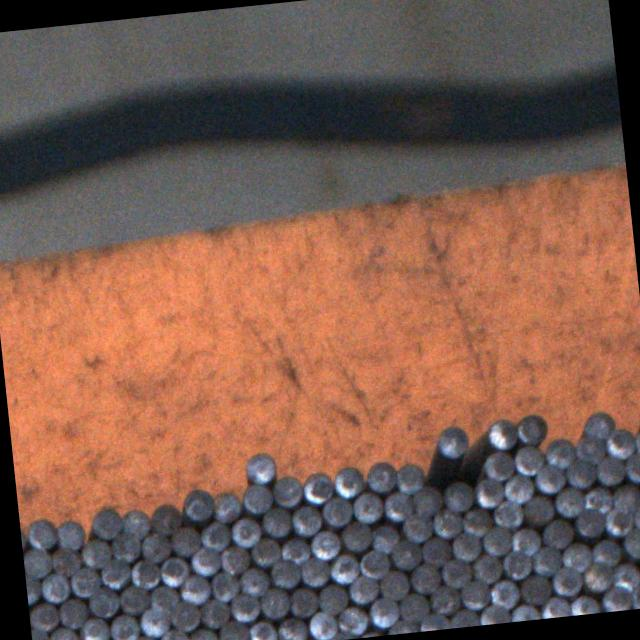tool: (602, 426, 638, 461), (540, 516, 576, 551), (334, 602, 372, 635), (180, 486, 214, 522), (435, 422, 469, 458), (117, 582, 153, 616), (88, 504, 122, 540), (601, 503, 635, 538), (460, 503, 494, 538), (289, 502, 324, 536), (147, 500, 182, 534), (243, 449, 277, 484), (364, 458, 398, 493), (485, 415, 519, 450), (56, 594, 90, 629), (351, 488, 384, 524), (542, 434, 576, 468), (286, 584, 320, 618), (408, 562, 442, 596), (560, 540, 594, 574), (268, 556, 302, 590), (522, 492, 556, 526), (198, 517, 232, 551), (228, 514, 262, 548), (258, 504, 292, 538), (440, 478, 474, 512), (300, 470, 334, 504), (128, 555, 162, 589), (24, 516, 58, 550), (325, 551, 360, 584), (337, 519, 372, 552), (139, 529, 172, 564), (564, 456, 598, 489), (518, 572, 552, 605), (550, 563, 584, 596), (331, 464, 364, 498), (512, 442, 545, 476), (376, 568, 411, 600), (500, 547, 532, 582), (529, 544, 564, 576), (580, 408, 616, 439), (271, 472, 302, 508), (119, 506, 152, 539), (580, 482, 614, 514), (368, 595, 400, 629), (428, 584, 462, 616), (146, 582, 180, 614), (356, 546, 390, 578), (158, 554, 192, 586), (278, 534, 312, 566), (368, 521, 402, 553), (240, 482, 274, 514), (516, 411, 548, 445), (138, 604, 172, 636), (55, 517, 87, 551), (388, 539, 423, 570), (236, 566, 272, 596), (590, 536, 623, 568), (608, 479, 640, 512), (398, 590, 431, 622), (197, 596, 230, 628), (470, 552, 503, 584), (189, 544, 222, 576), (308, 528, 341, 560), (394, 461, 426, 494), (98, 555, 130, 588), (501, 472, 535, 503), (68, 565, 102, 596), (489, 577, 521, 609), (228, 590, 260, 622), (440, 556, 472, 588), (178, 572, 210, 604), (207, 569, 239, 601), (450, 530, 482, 562), (492, 496, 524, 528), (168, 525, 200, 557), (321, 494, 353, 526), (472, 476, 504, 508), (210, 490, 242, 522), (483, 449, 515, 481), (28, 600, 60, 632), (88, 584, 120, 616), (50, 544, 82, 576), (108, 530, 140, 562), (572, 506, 606, 536), (532, 462, 566, 492), (581, 558, 612, 590), (573, 434, 604, 466), (298, 554, 329, 586), (420, 535, 452, 566), (481, 524, 512, 556), (401, 510, 433, 541), (553, 484, 584, 516), (382, 490, 414, 521), (411, 485, 443, 516), (40, 570, 71, 602), (318, 582, 351, 612), (609, 558, 640, 589), (307, 608, 337, 640), (459, 580, 491, 610), (348, 573, 380, 603), (220, 542, 250, 574), (249, 536, 281, 566), (432, 507, 464, 537), (22, 546, 52, 578), (168, 600, 198, 631), (80, 538, 111, 568), (106, 612, 139, 640), (276, 613, 310, 640), (594, 454, 624, 484), (258, 587, 288, 617), (510, 524, 540, 554), (601, 583, 632, 612), (568, 590, 602, 616), (537, 594, 571, 618), (78, 615, 110, 640), (449, 605, 482, 628), (217, 618, 251, 640), (478, 602, 509, 625), (247, 617, 278, 640), (508, 600, 539, 622), (620, 525, 640, 558), (46, 622, 81, 640), (418, 612, 451, 631), (621, 451, 640, 483), (185, 624, 220, 640), (385, 618, 419, 634), (25, 573, 43, 603), (157, 626, 190, 640), (629, 581, 640, 609), (631, 500, 640, 532), (30, 626, 50, 640), (634, 425, 640, 457), (128, 634, 160, 640)
